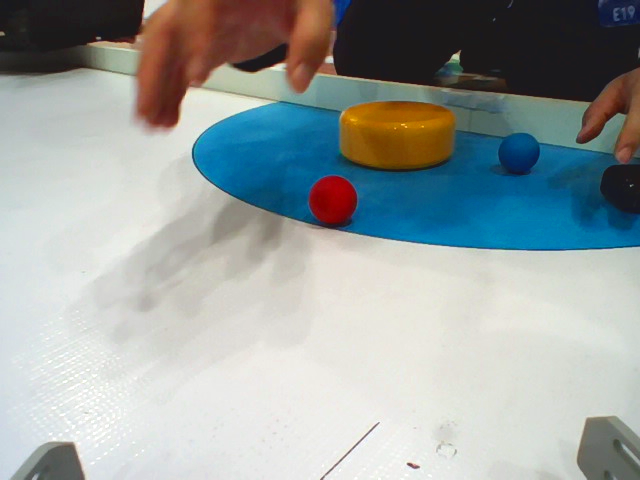black: (603, 162, 640, 212)
blue: (499, 132, 542, 173)
red: (309, 175, 358, 222)
yellow: (336, 100, 458, 170)
